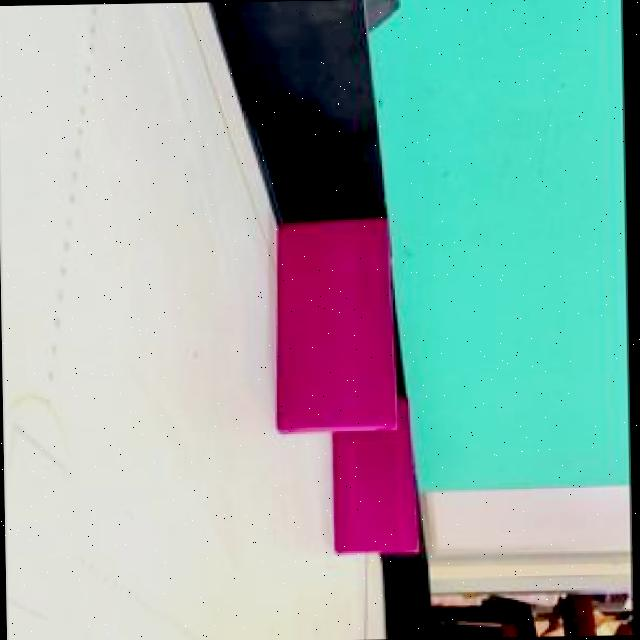xparking: (271, 222, 391, 428), (330, 430, 412, 548)
